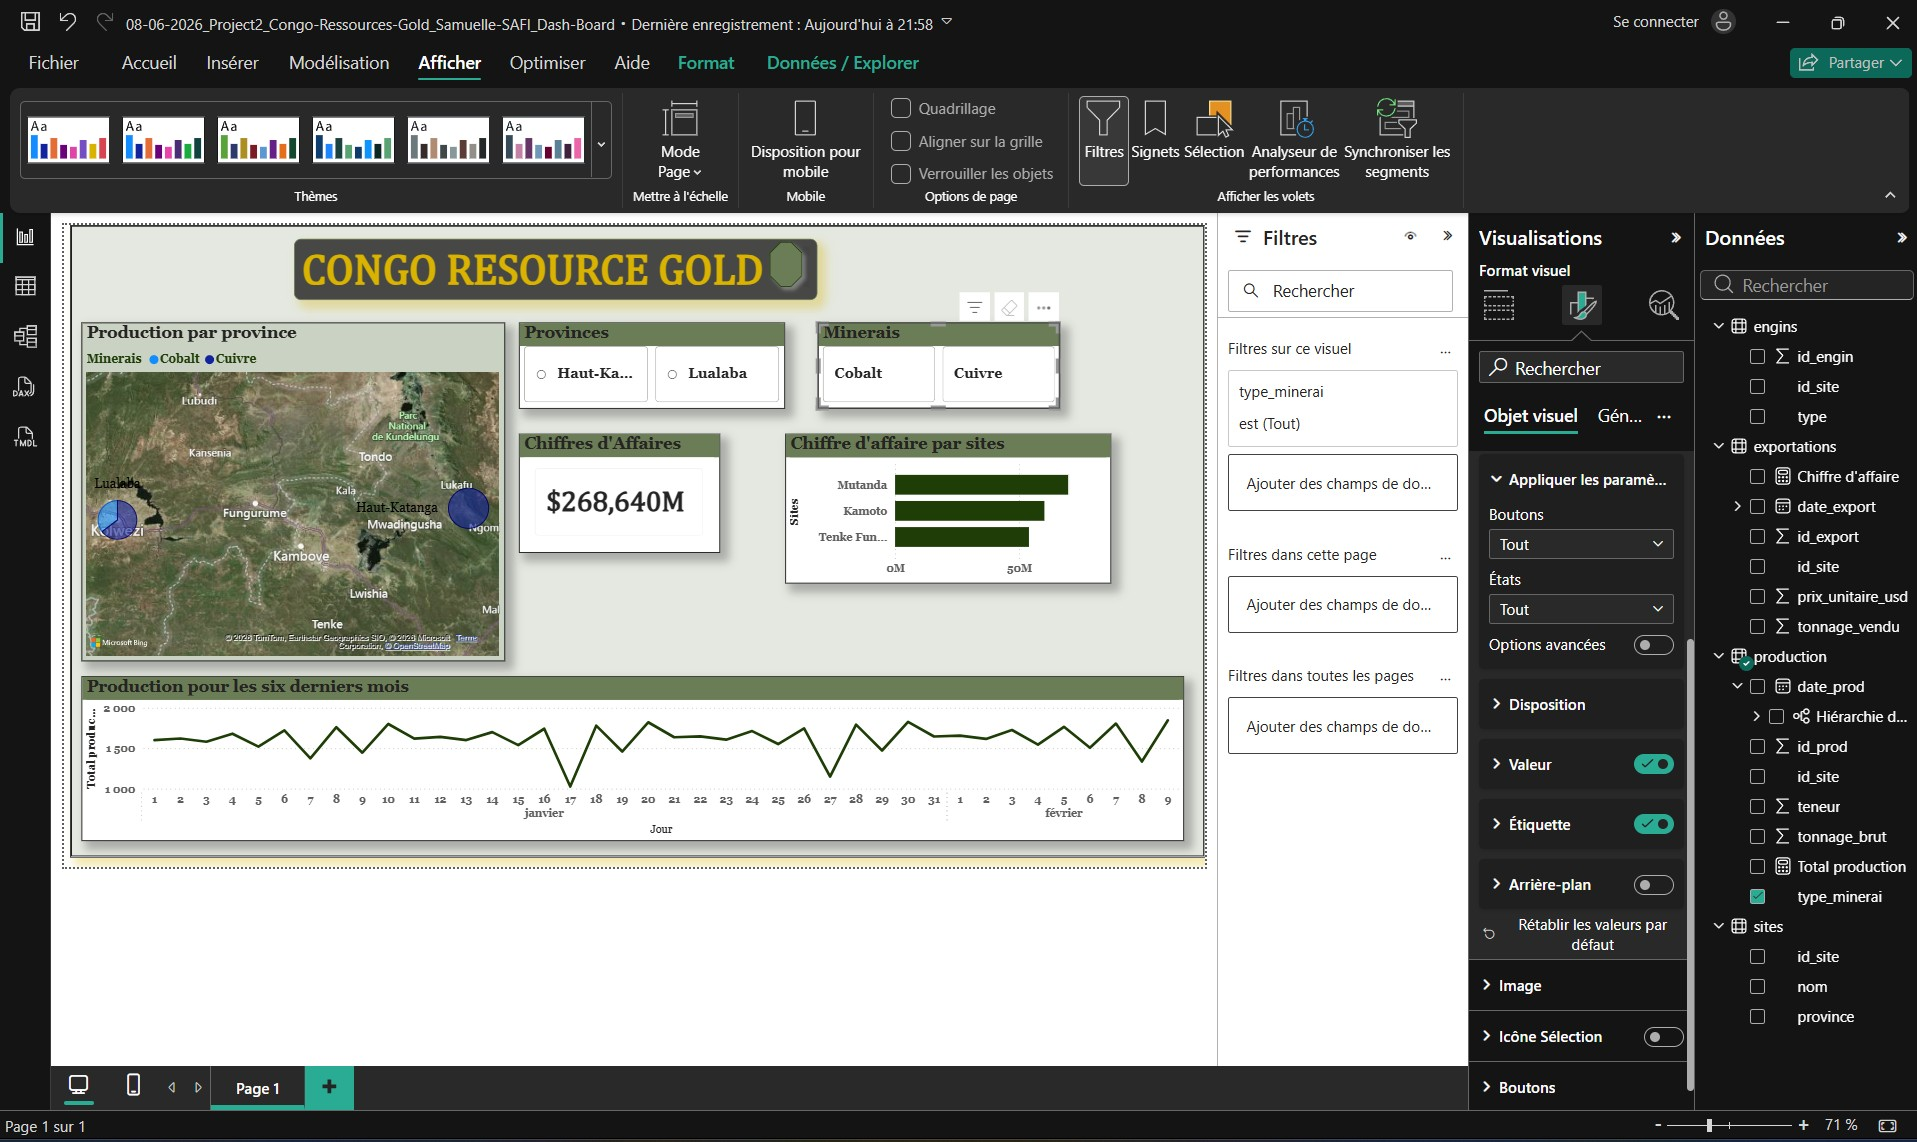

Layout of this report page (visuals, bound fields, positions):
{"tool":"powerbi","page":{"name":"Page 1","canvas":[1280,720],"ordinal":0},"visuals":[{"type":"shape","box":[7.7,9.6,1273.1,709.6],"z":0},{"type":"textbox","box":[258,15.1,587.3,68.6],"z":1000},{"type":"shape","box":[782.2,9.6,54.9,68.6],"z":2000},{"type":"map","title":"Production par province","fields":{"Category":["sites.province"],"Size":["Sum(production.tonnage_brut)"],"Series":["production.type_minerai"]},"box":[20.6,105.7,382.8,245.6],"z":3000},{"type":"lineChart","title":"Production pour les six derniers mois ","fields":{"Y":["production.Total production"],"Category":["production.date_prod.Variation.Hiérarchie de dates.Mois","production.date_prod.Variation.Hiérarchie de dates.Jour"]},"box":[447.3,105.7,382.8,253.9],"z":4000},{"type":"clusteredBarChart","title":"Chiffre d''affaire par sites","fields":{"Category":["sites.nom"],"Y":["exportations.Chiffre d'affaire"]},"box":[882.3,105.7,366.4,299.1],"z":5000},{"type":"slicer","title":"Minerais","fields":{"Values":["production.type_minerai"]},"box":[20.6,385.6,148.2,133.1],"z":6000},{"type":"slicer","title":"Provinces","fields":{"Values":["sites.province"]},"box":[192.1,385.6,186.6,133.1],"z":7000},{"type":"cardVisual","title":"Chiffres d''Affaires","fields":{"Data":["exportations.Chiffre d'affaire"]},"box":[452.8,385.6,226.4,133.1],"z":8000}]}

Visuals, with their boxes on the page's 1280x720 design canvas (x1, y1, x2, y2). These are canvas units, not pixel positions in the 1917x1142 screenshot, which may show the page scaled, cropped or inside an application window:
shape: [8, 10, 1281, 719]
textbox: [258, 15, 845, 84]
shape: [782, 10, 837, 78]
"Production par province" map: [21, 106, 403, 351]
"Production pour les six derniers mois " lineChart: [447, 106, 830, 360]
"Chiffre d''affaire par sites" clusteredBarChart: [882, 106, 1249, 405]
"Minerais" slicer: [21, 386, 169, 519]
"Provinces" slicer: [192, 386, 379, 519]
"Chiffres d''Affaires" cardVisual: [453, 386, 679, 519]
